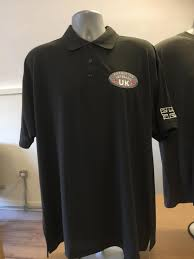S_polo shirt: (7, 19, 173, 250)
